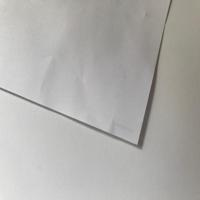paper: (1, 0, 174, 148)
